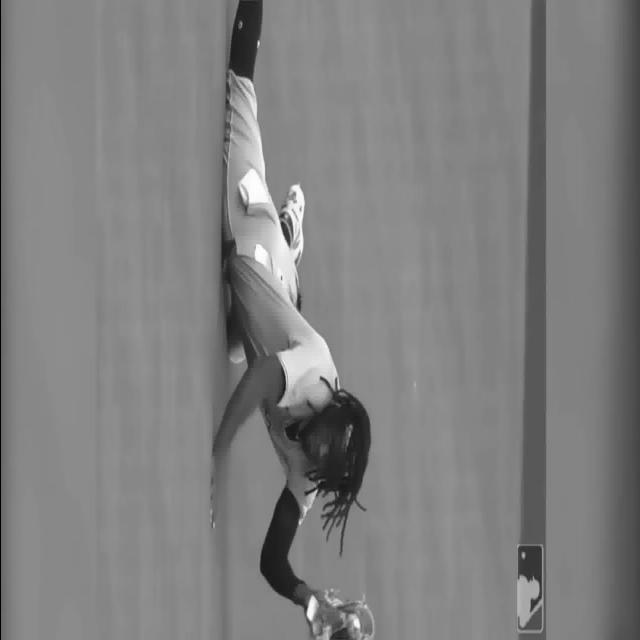baseball: (348, 615, 360, 632)
baseball_glove: (314, 593, 378, 640)
